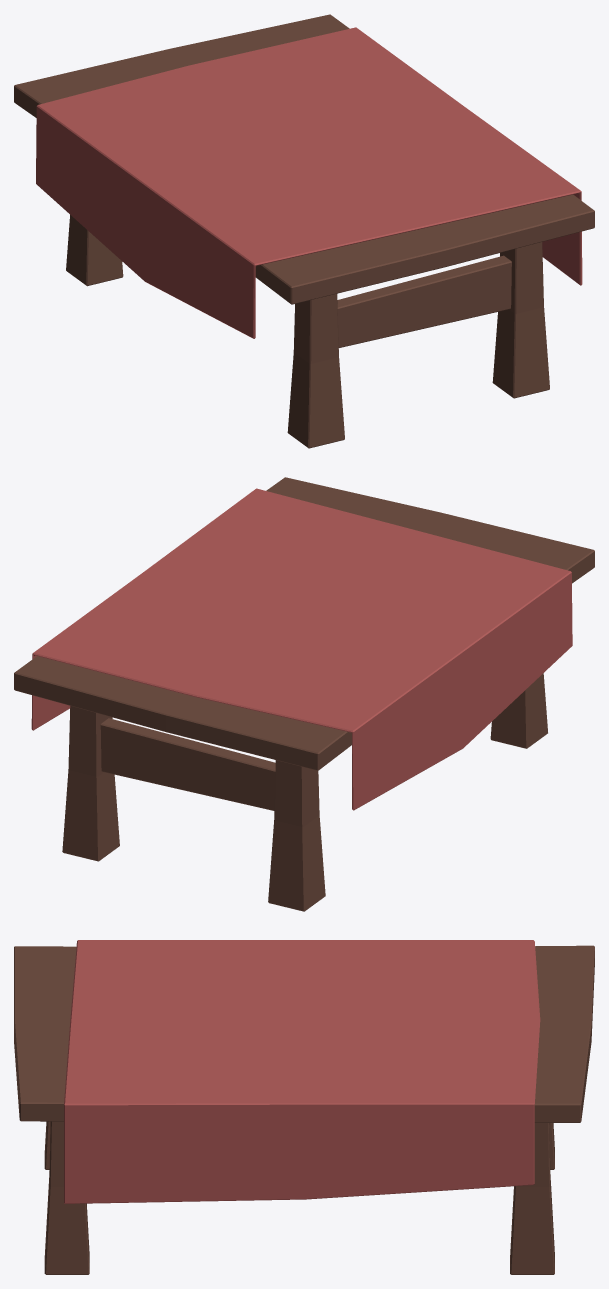
File: Dinner_table.fbx
3 renders of one model, top to bottom at view 1: azimuth 30°, elevation 25°; view 2: azimuth 150°, elevation 25°; view 3: azimuth 270°, elevation 25°, orthographic. The views are drawn at different scales.
Parts seen in each view (by area): view 1: Cube.027; view 2: Cube.027; view 3: Cube.027.
Part boxes in pixels (left/top/right/bottom): Cube.027: left=14, top=14, right=594, bottom=448; Cube.027: left=14, top=477, right=594, bottom=911; Cube.027: left=14, top=940, right=594, bottom=1274.
Size of the model in its own units: 171 by 92.49 by 254.
